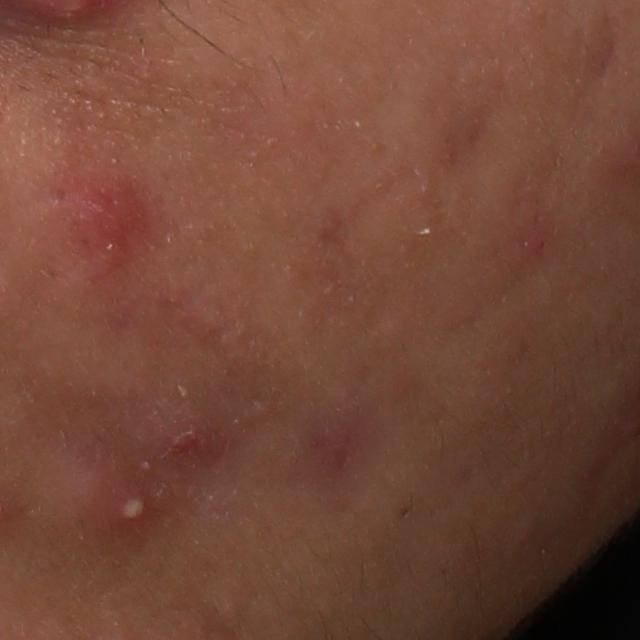papule: (54, 464, 124, 537), (75, 177, 150, 245), (161, 421, 209, 466)
pustule: (118, 490, 151, 523)
